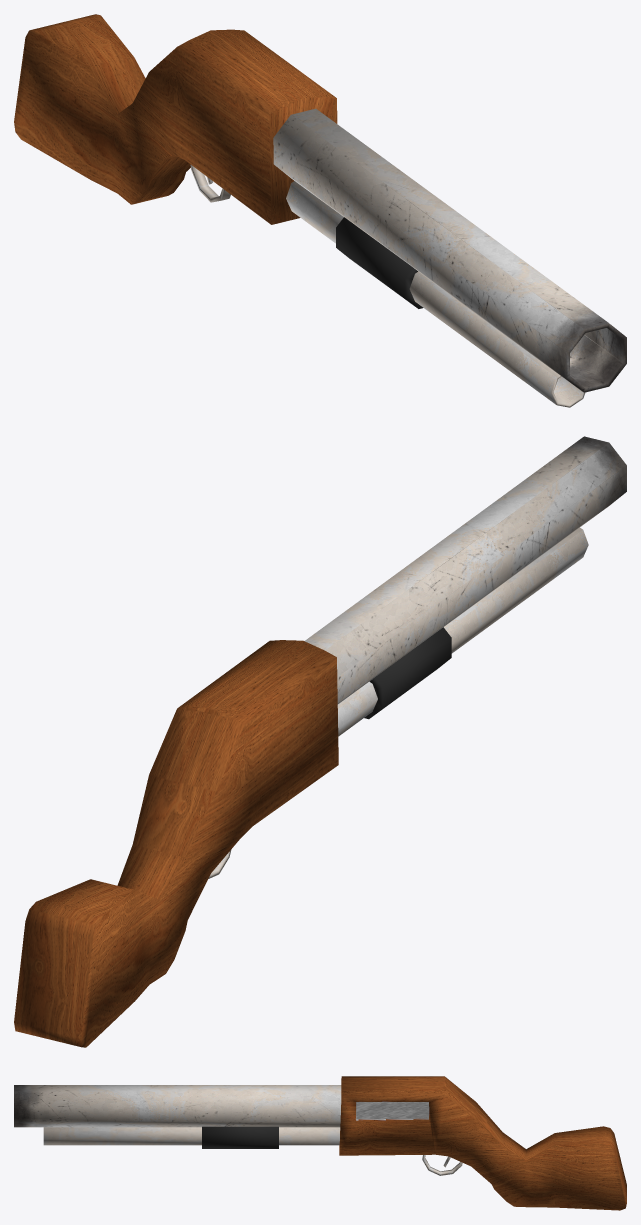
File: shotgun_2.glb
3 renders of one model, top to bottom at view 1: azimuth 30°, elevation 25°; view 2: azimuth 150°, elevation 25°; view 3: azimuth 270°, elevation 25°, orthographic. The views are drawn at different scales.
Visible parts, largest first — view 1: shot gun box wood, main shot, second shot, reloader, gack; view 2: shot gun box wood, main shot, second shot, reloader; view 3: shot gun box wood, main shot, second shot, reloader, reload bar, gack.
Boxes of the visible parts, x1,y1,x2,y2 form: shot gun box wood: (14,14,337,224); main shot: (273,108,626,392); second shot: (286,181,585,407); reloader: (336,217,423,308); gack: (190,165,230,202); shot gun box wood: (14,640,338,1047); main shot: (304,436,626,704); second shot: (337,527,588,736); reloader: (364,627,451,719); shot gun box wood: (339,1076,626,1210); main shot: (14,1085,341,1127); second shot: (43,1127,340,1145); reloader: (202,1126,278,1148); reload bar: (356,1102,428,1119); gack: (422,1155,462,1175).
Bounding box in the file's own units: 0.0788 × 0.2418 × 1.11.
Materials: 8 (7 with a texture image).
